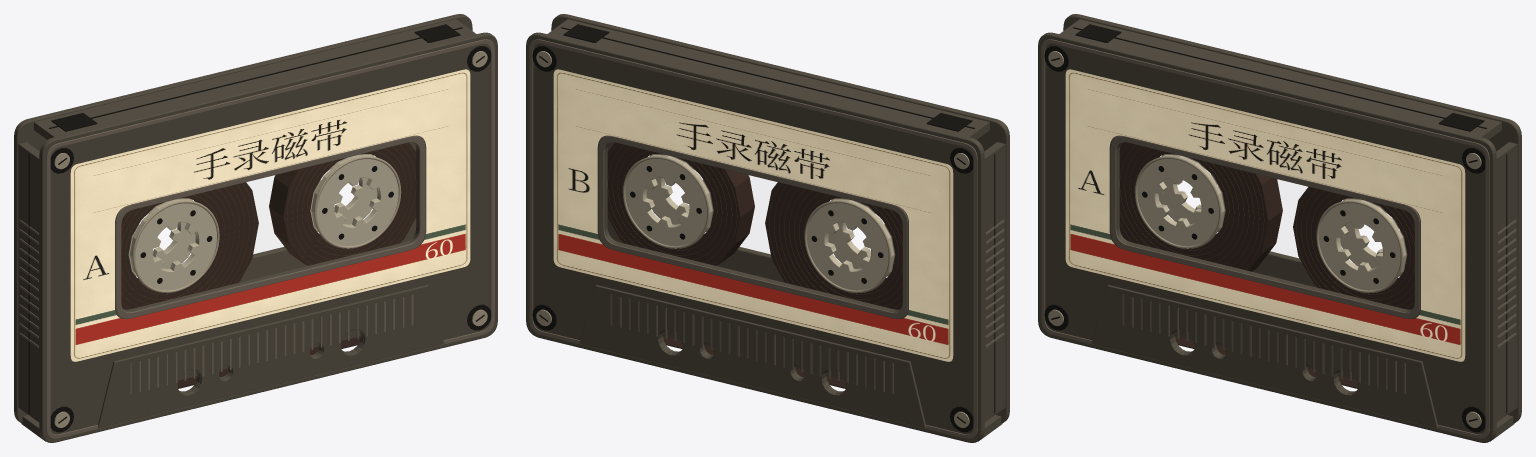
Rendered from cassette.glb.
3 views of the same model, side by side, from view 1: azimuth 30°, elevation 25°; view 2: azimuth 150°, elevation 25°; view 3: azimuth 330°, elevation 25° (orthographic).
Visible parts, largest first — view 1: smoked-brown-polycarbonate, cassette-label-a, polished-shell-edges, wound-magnetic-tape, ivory-reel-hubs, case-join-and-recesses, aged-steel-screws, tape-winding-edges; view 2: smoked-brown-polycarbonate, cassette-label-b, polished-shell-edges, wound-magnetic-tape, ivory-reel-hubs, case-join-and-recesses, aged-steel-screws, tape-winding-edges; view 3: smoked-brown-polycarbonate, cassette-label-a, polished-shell-edges, wound-magnetic-tape, ivory-reel-hubs, case-join-and-recesses, aged-steel-screws, tape-winding-edges.
Part boxes in pixels (<box>): smoked-brown-polycarbonate: <box>14,14,497,442</box>; cassette-label-a: <box>70,69,470,361</box>; polished-shell-edges: <box>19,39,494,438</box>; wound-magnetic-tape: <box>121,142,416,388</box>; ivory-reel-hubs: <box>128,154,398,290</box>; case-join-and-recesses: <box>28,24,491,432</box>; aged-steel-screws: <box>54,51,487,427</box>; tape-winding-edges: <box>121,143,416,308</box>; smoked-brown-polycarbonate: <box>526,14,1009,442</box>; cassette-label-b: <box>553,69,953,361</box>; polished-shell-edges: <box>529,39,1004,438</box>; wound-magnetic-tape: <box>607,142,902,388</box>; ivory-reel-hubs: <box>625,154,895,290</box>; case-join-and-recesses: <box>532,24,995,432</box>; aged-steel-screws: <box>536,51,969,427</box>; tape-winding-edges: <box>607,143,902,308</box>; smoked-brown-polycarbonate: <box>1038,14,1521,442</box>; cassette-label-a: <box>1065,69,1465,361</box>; polished-shell-edges: <box>1041,39,1516,438</box>; wound-magnetic-tape: <box>1119,142,1414,388</box>; ivory-reel-hubs: <box>1137,154,1407,290</box>; case-join-and-recesses: <box>1044,24,1507,432</box>; aged-steel-screws: <box>1048,51,1481,427</box>; tape-winding-edges: <box>1119,143,1414,308</box>.
Size of the model in its own units: 0.1004 by 0.0638 by 0.012.
Materials: 11 (2 with a texture image).
